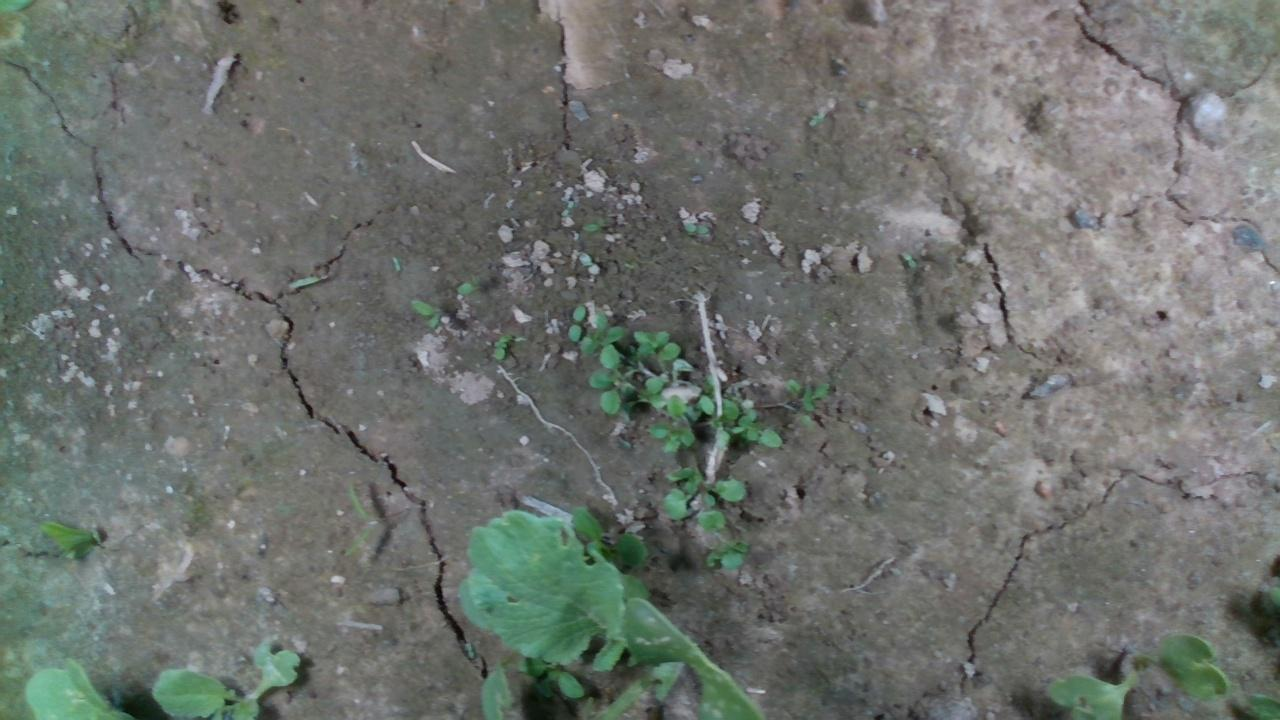weed: (397, 294, 450, 335)
